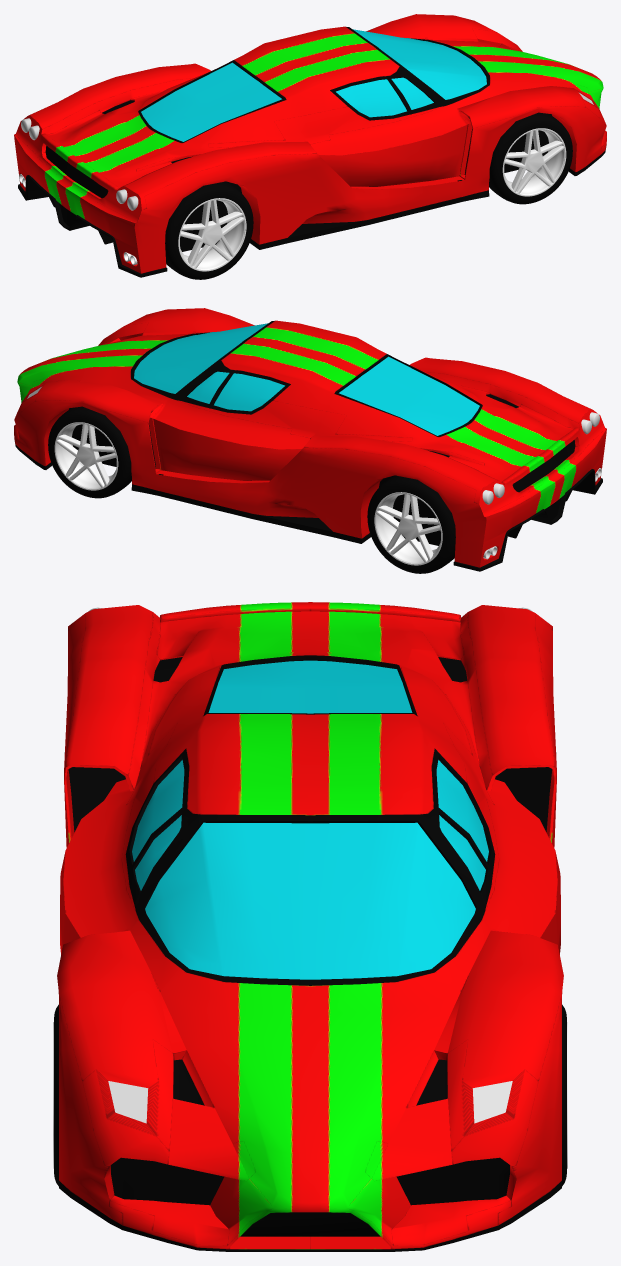
Rendered from HyperCar.fbx.
3 renders of one model, top to bottom at view 1: azimuth 30°, elevation 25°; view 2: azimuth 150°, elevation 25°; view 3: azimuth 270°, elevation 25°, orthographic. The views are drawn at different scales.
Parts seen in each view (by area): view 1: HyperCar, BR_WHEEL, FR_WHEEL; view 2: HyperCar, BL_WHEEL, FL_WHEEL; view 3: HyperCar, FL_WHEEL, FR_WHEEL.
Boxes of the visible parts, box(x1,y1,x2,y2) form: HyperCar: box(14, 14, 606, 277); BR_WHEEL: box(165, 181, 253, 279); FR_WHEEL: box(489, 112, 572, 204); HyperCar: box(14, 308, 606, 571); BL_WHEEL: box(367, 475, 455, 573); FL_WHEEL: box(48, 406, 131, 498); HyperCar: box(57, 602, 563, 1251); FL_WHEEL: box(562, 1004, 567, 1186); FR_WHEEL: box(53, 1004, 58, 1186).
Size of the model in its own units: 431 by 107 by 178.
